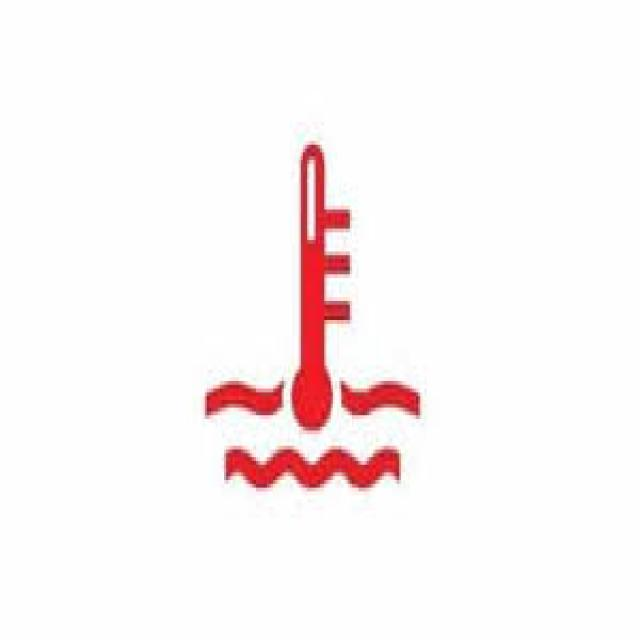kontrolka: (200, 130, 444, 534)
